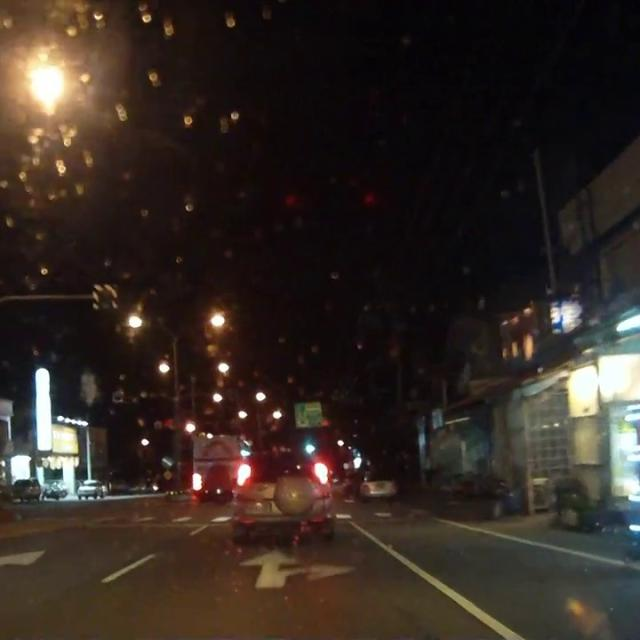Car: (226, 454, 335, 539), (359, 466, 400, 502)
